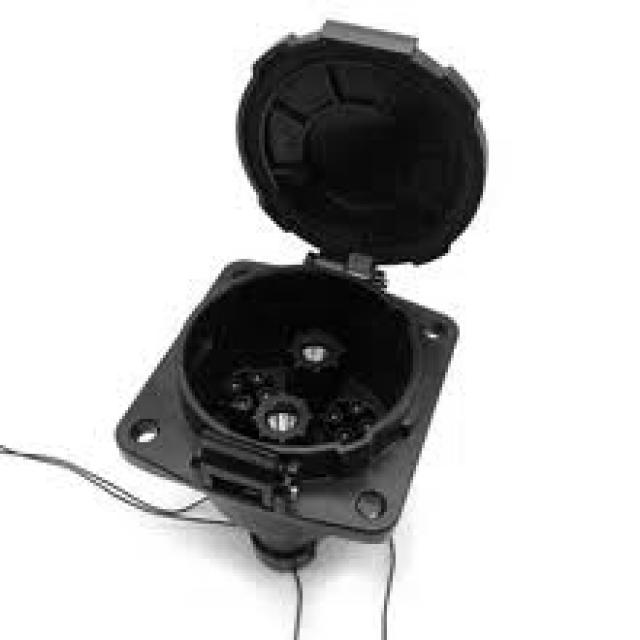CHAdeMO: (154, 214, 446, 480)
